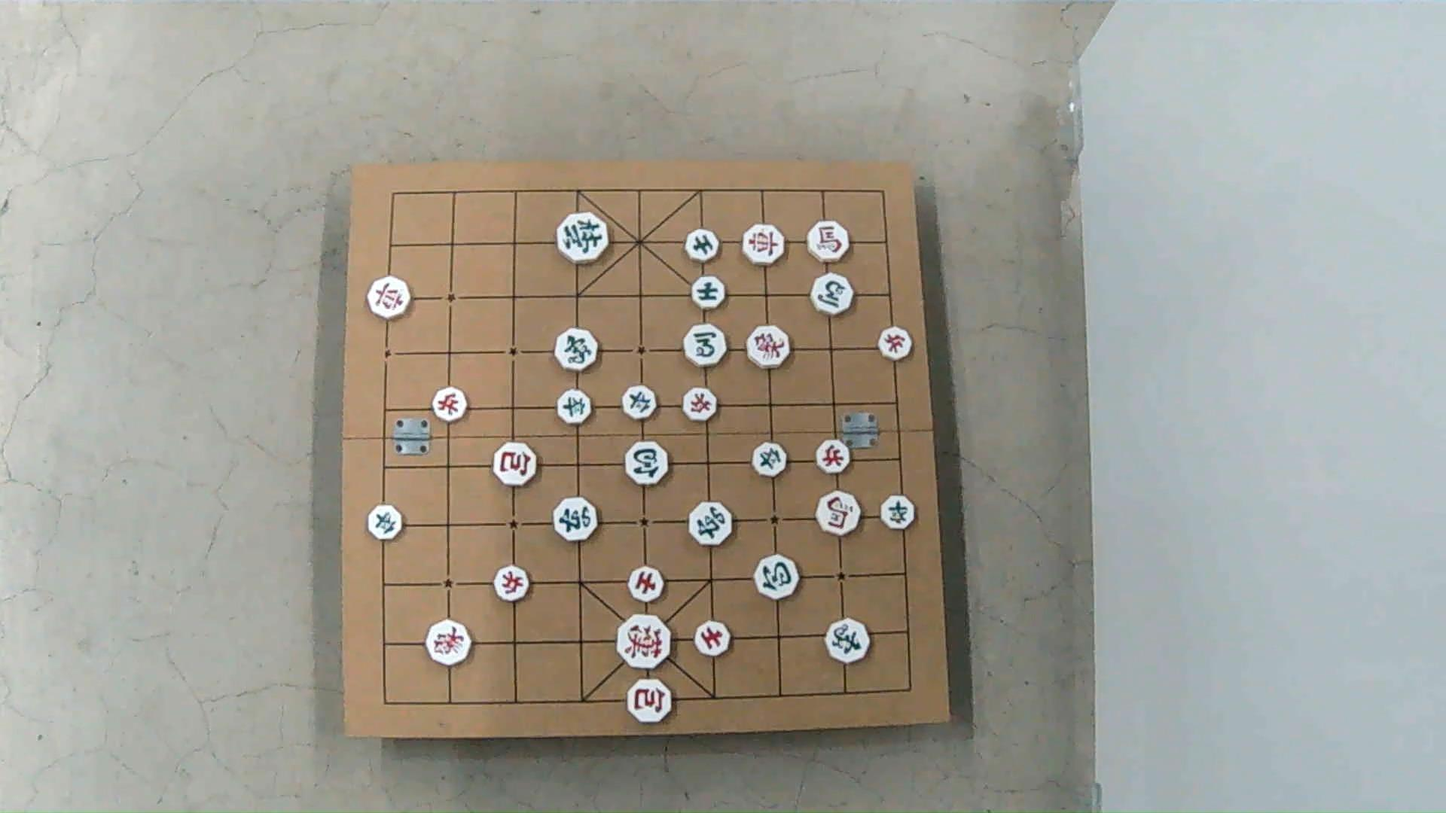cha_green: (690, 502, 734, 546), (554, 498, 598, 541)
cha_red: (369, 277, 412, 320), (741, 224, 785, 265)
jol_green: (371, 504, 405, 539), (556, 389, 590, 424), (879, 497, 914, 531), (754, 443, 788, 477), (624, 386, 657, 420)
jol_red: (493, 568, 528, 604), (684, 387, 719, 422), (433, 387, 468, 422), (877, 327, 911, 361), (816, 440, 849, 474)
ma_green: (684, 324, 728, 367), (808, 273, 852, 315)
ma_red: (816, 491, 860, 536), (807, 221, 849, 261)
po_green: (624, 440, 668, 486), (756, 556, 801, 599)
po_red: (493, 441, 537, 486), (627, 678, 672, 721)
sa_green: (691, 275, 726, 308), (685, 229, 718, 262)
sa_red: (693, 620, 730, 656), (628, 566, 666, 601)
sang_green: (554, 328, 597, 372), (825, 620, 869, 662)
sang_red: (426, 622, 471, 667), (749, 326, 792, 369)
wang_green: (555, 213, 607, 264)
wang_red: (619, 614, 673, 668)
